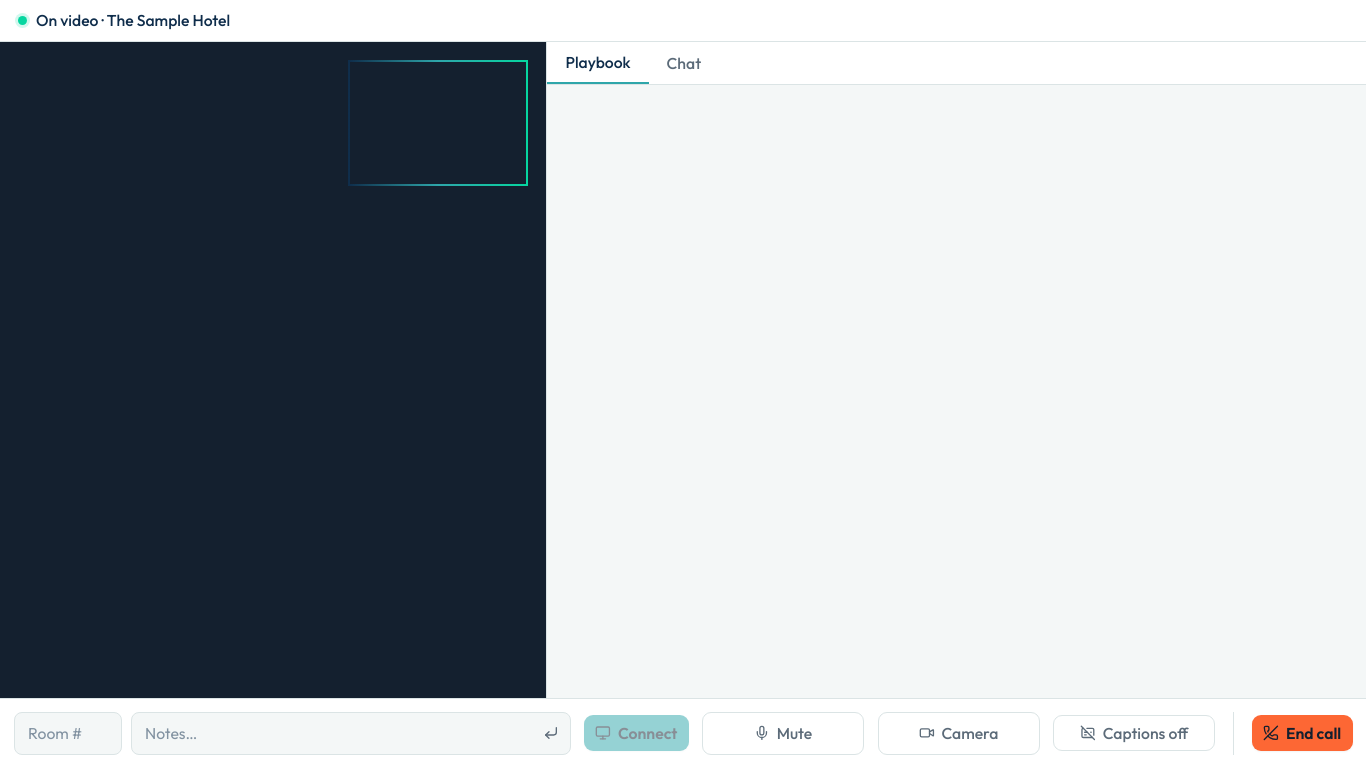
Test: VideoCall — provider-neutral behavior (livekit harness) › shows the ChatDock input when the Chat tab is clicked (non-collapsed overlay)
Click the tab "Chat" at x=684, y=63, box 649,42 -> 719,84
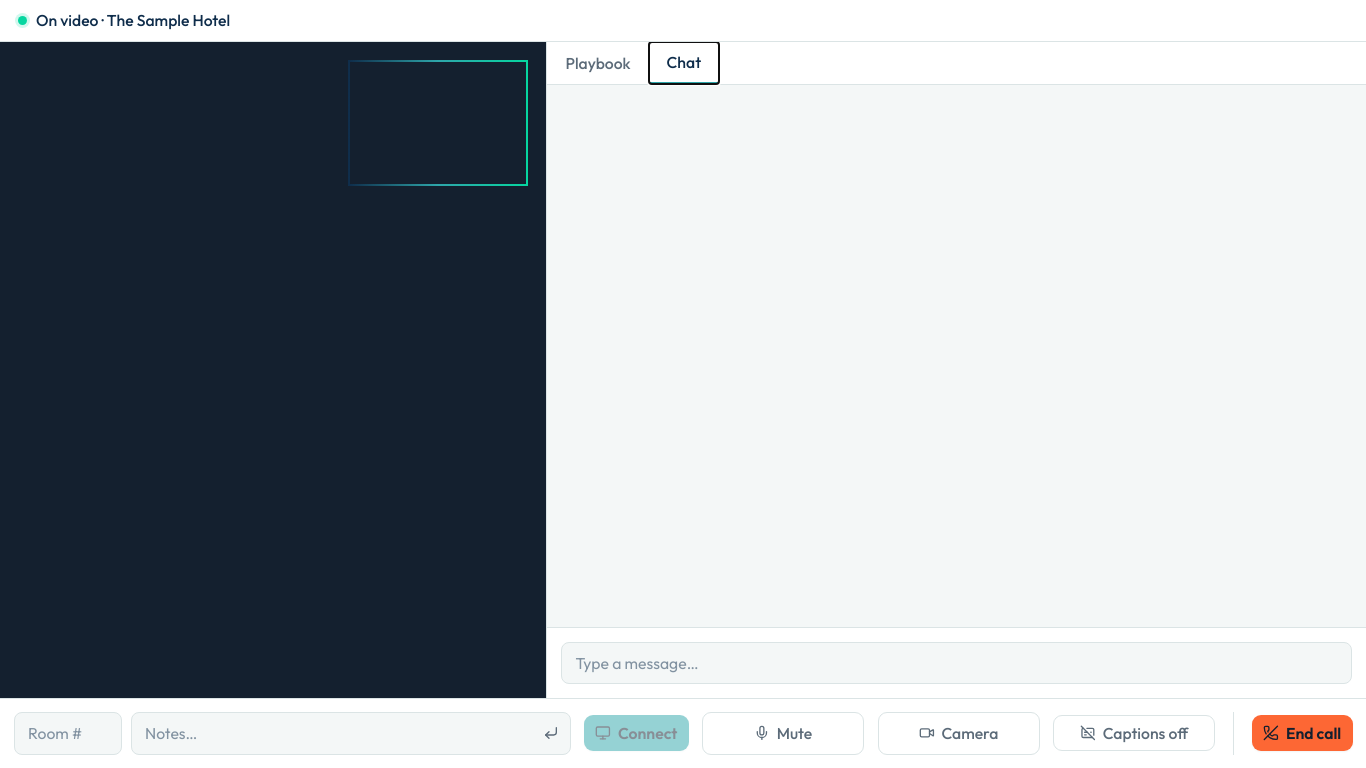
Expected: the field with placeholder "Type a message…" is shown, 561,642 -> 1352,684
